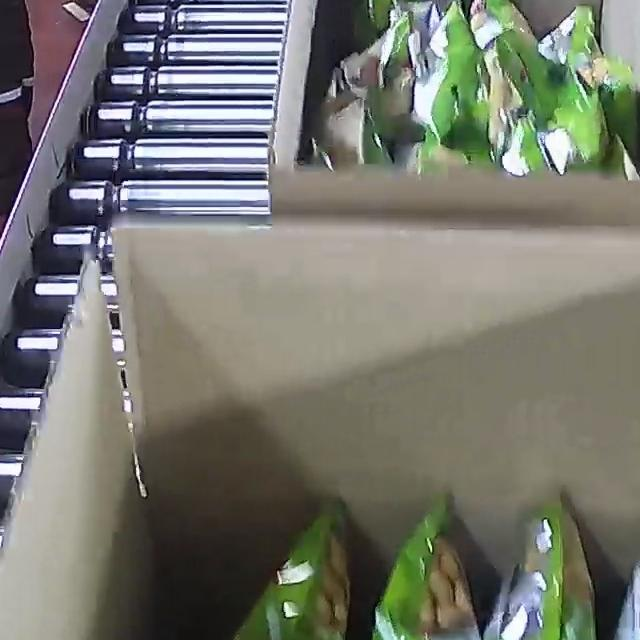yogurt: (137, 380, 640, 640), (307, 0, 640, 182)
